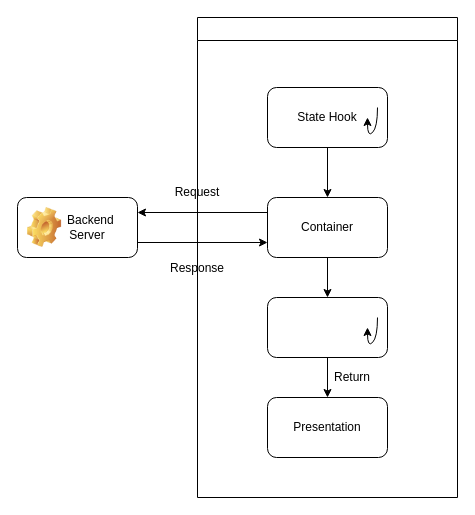
The diagram is 475 pixels wide and 515 high, and some of its shapes have lost their labels. The shapes that lost their labels are listed below. From the top down, each one's box as (x1, y1, x2, y2) in pixels, then its label:
(196, 16, 458, 498): Function Component
(266, 296, 388, 358): Effect Hook
